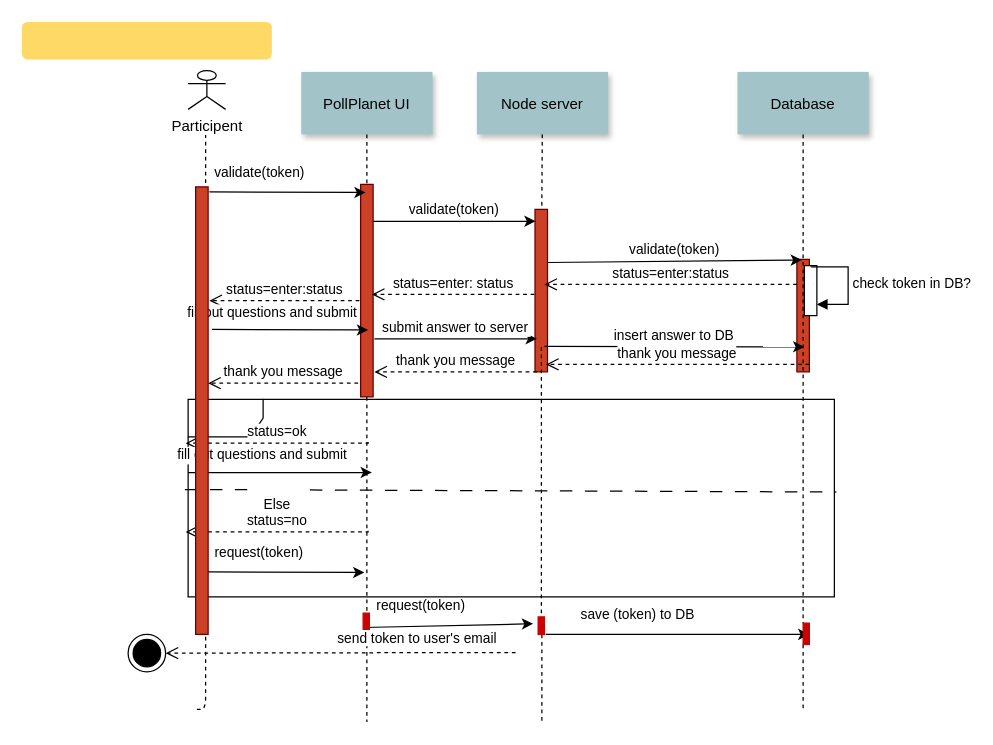
Image size: 993x745. Some labels were removed from this diagram. Here are the shapes that lost their labels. From the top down, the centre of each, then its label:
[146,40]: Participant fill out quesionsnaire
[510,497]: Alt
